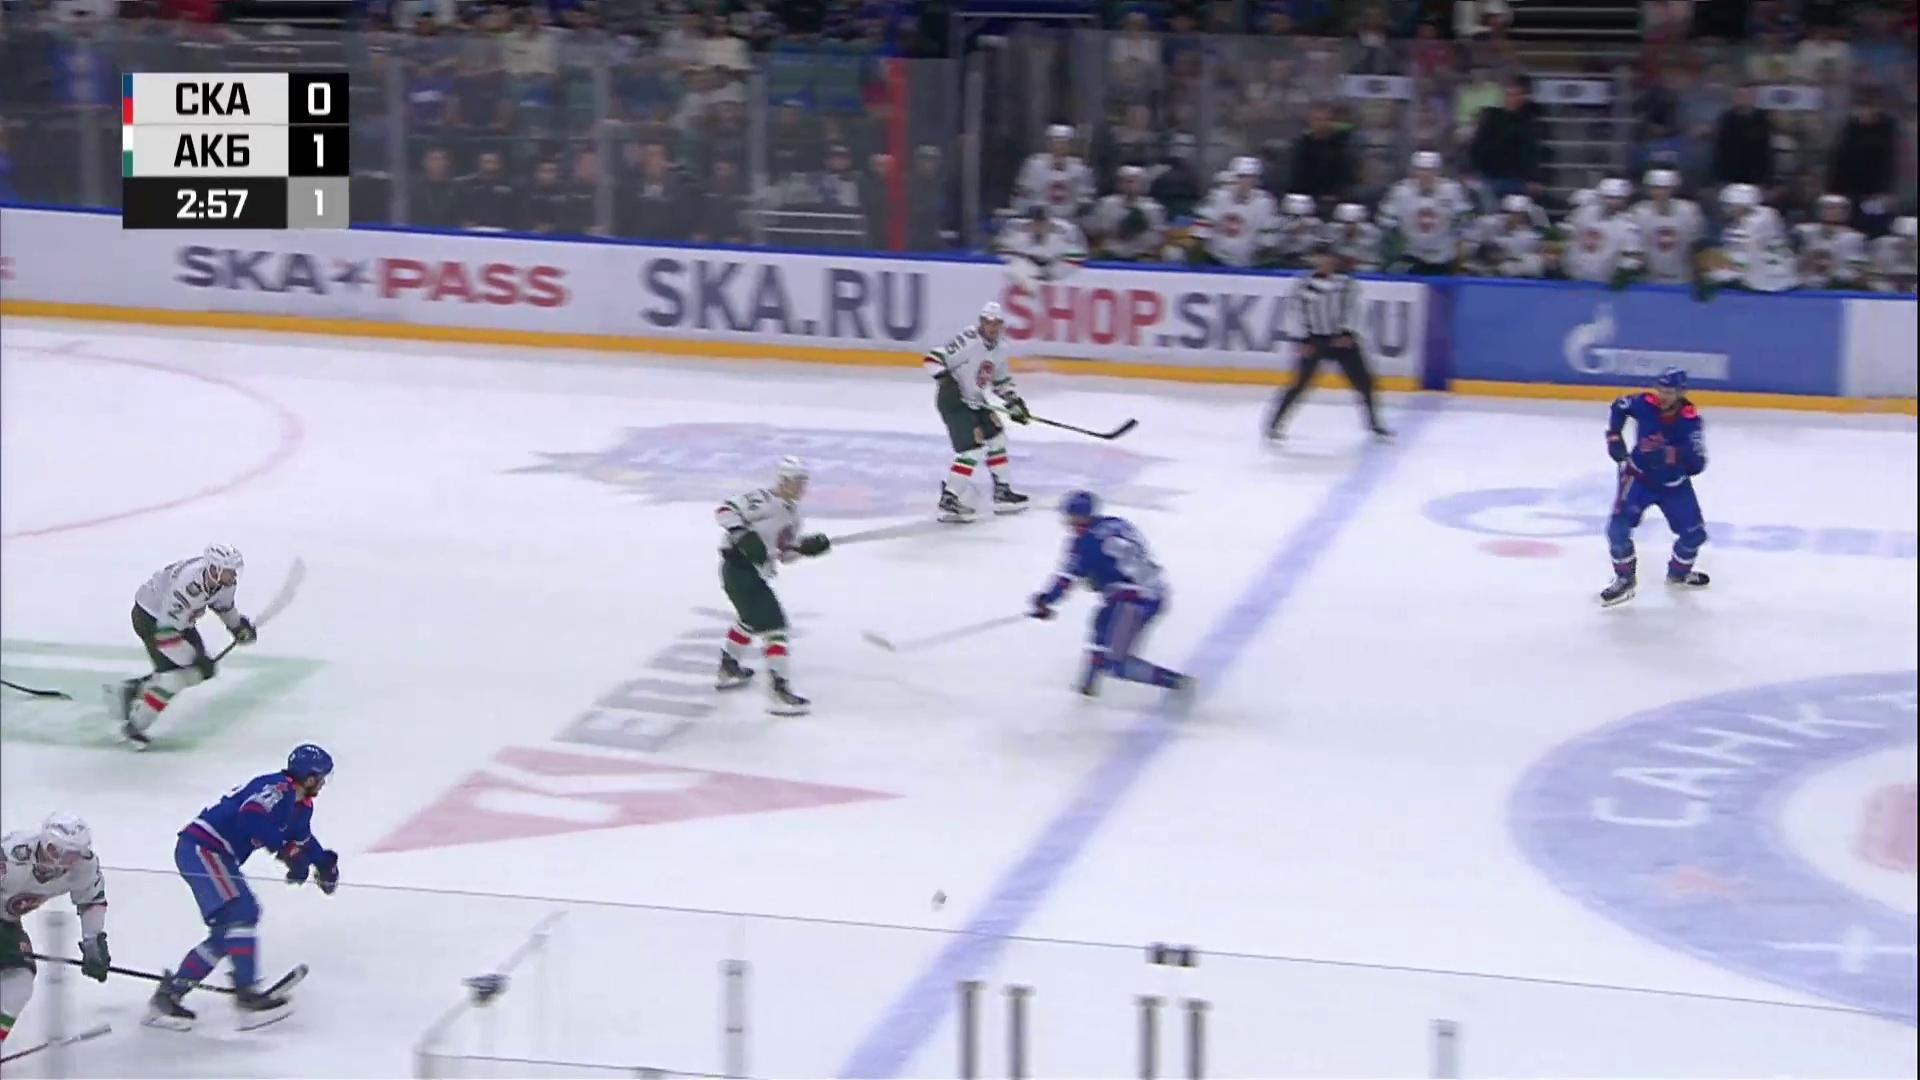ball: (931, 891, 948, 907)
